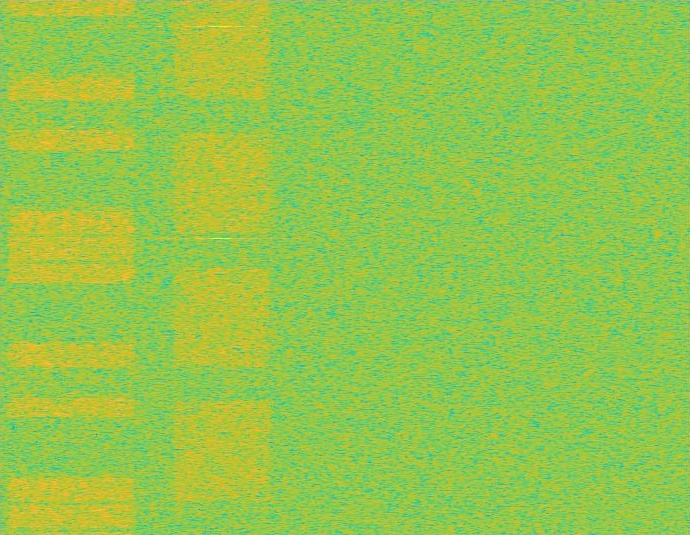5G: (170, 0, 274, 534)
LTE: (3, 0, 141, 534)
Radar: (214, 0, 227, 534)
